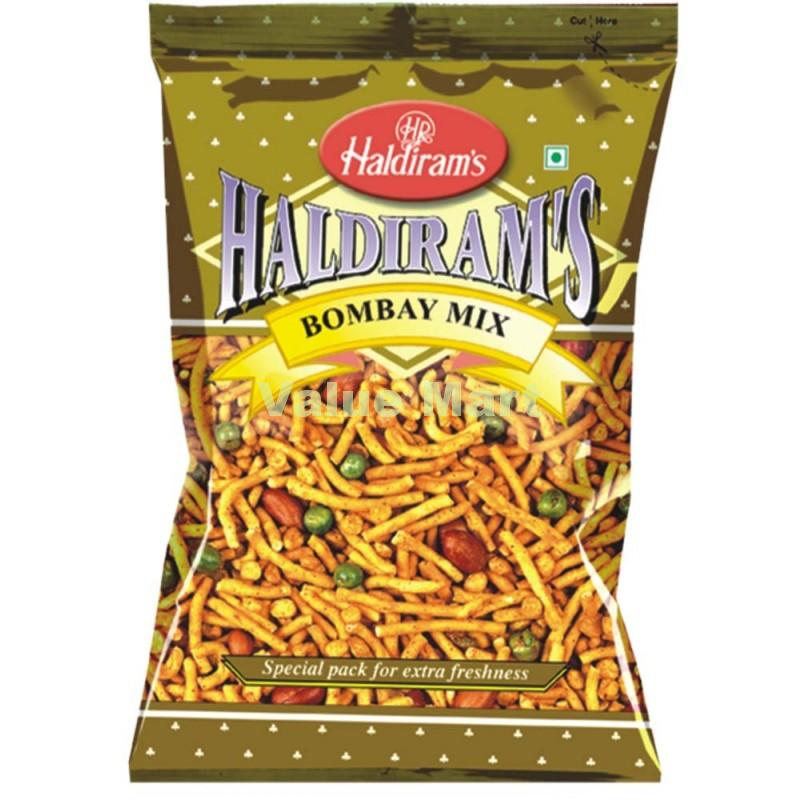VEG: (541, 144, 570, 169)
